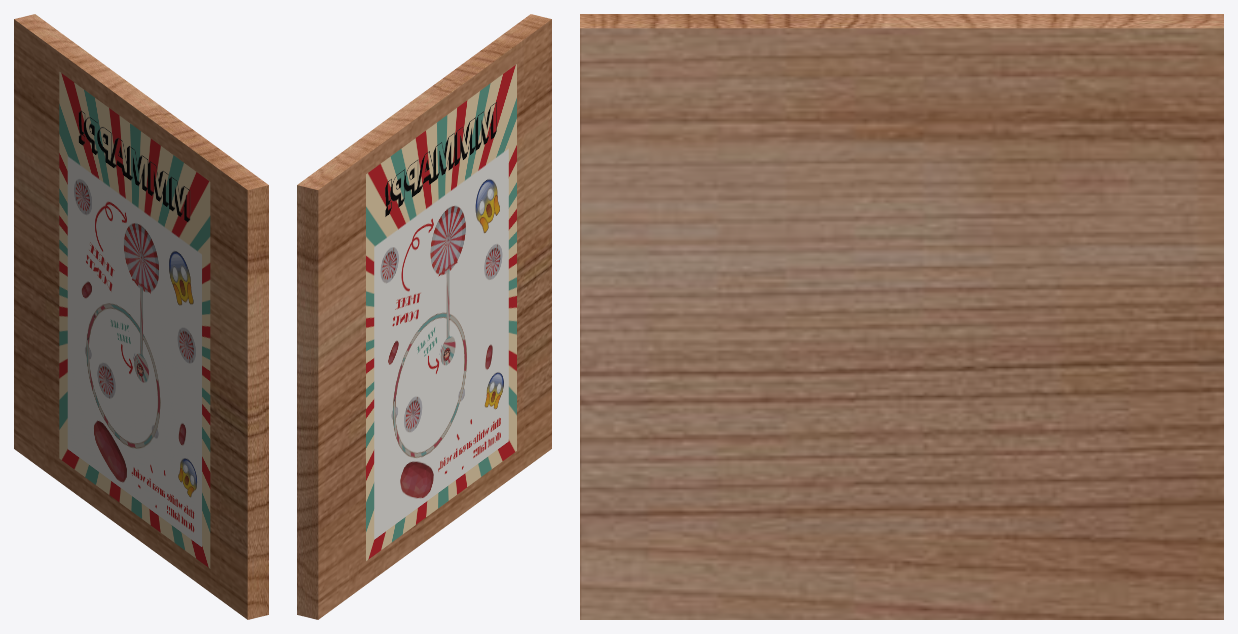
The model's file is helper.obj.
3 renders of one model, left to right at view 1: azimuth 30°, elevation 25°; view 2: azimuth 150°, elevation 25°; view 3: azimuth 270°, elevation 25°, orthographic. The views are drawn at different scales.
Size of the model in its own units: 0.4467 by 8.21 by 8.09.
